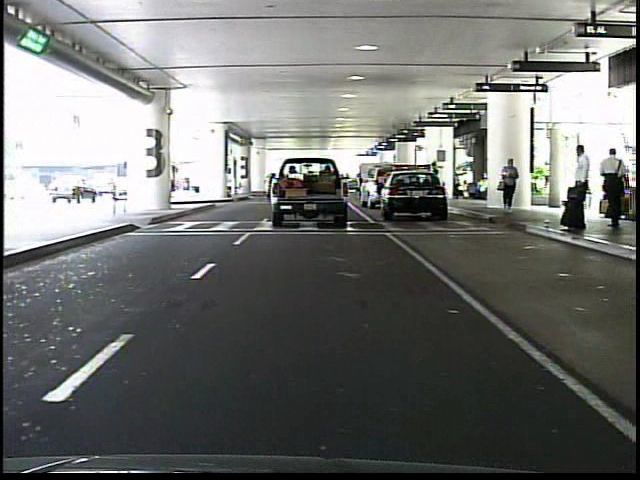person: (562, 141, 595, 237), (598, 144, 630, 232), (498, 152, 524, 218), (428, 159, 443, 204)
